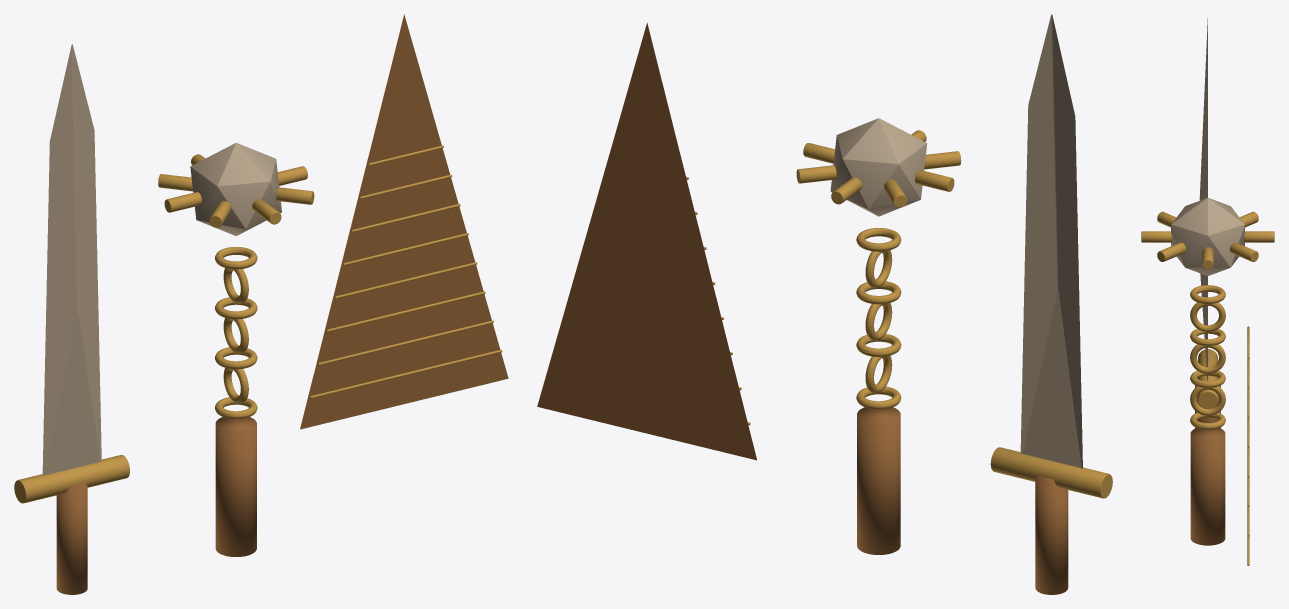
The picture shows the model from 3 angles, left to right: view 1: azimuth 30°, elevation 25°; view 2: azimuth 150°, elevation 25°; view 3: azimuth 270°, elevation 25°; orthographic projection. The views are drawn at different scales.
Visible parts, largest first — view 1: TI042 / triangular decorated frame, TI042 / leaf shaped blade, TI042 / flail grip, TI042 / flail head, TI042 / sword grip, TI042 / decorative crossguard, TI042 / individual flail chain link.006, TI042 / individual metallic string; view 2: TI042 / triangular decorated frame, TI042 / leaf shaped blade, TI042 / flail grip, TI042 / flail head, TI042 / sword grip, TI042 / decorative crossguard, TI042 / individual flail chain link.006; view 3: TI042 / flail grip, TI042 / flail head, TI042 / leaf shaped blade, TI042 / decorative crossguard, TI042 / individual flail chain link.001, TI042 / individual flail chain link.005, TI042 / individual flail chain link.003, TI042 / individual flail chain link.006, TI042 / individual flail chain link, TI042 / individual flail chain link.002, TI042 / individual flail chain link.004, TI042 / ornamental head spike.002 (+4 smaller).
Part boxes in pixels (<box>): TI042 / triangular decorated frame: <box>300,14,508,429</box>; TI042 / leaf shaped blade: <box>42,44,101,475</box>; TI042 / flail grip: <box>215,417,256,556</box>; TI042 / flail head: <box>190,142,281,235</box>; TI042 / sword grip: <box>56,481,87,594</box>; TI042 / decorative crossguard: <box>14,455,129,503</box>; TI042 / individual flail chain link.006: <box>215,247,257,269</box>; TI042 / individual metallic string: <box>309,349,502,398</box>; TI042 / triangular decorated frame: <box>537,22,756,460</box>; TI042 / leaf shaped blade: <box>1020,14,1082,468</box>; TI042 / flail grip: <box>857,407,900,554</box>; TI042 / flail head: <box>830,118,927,216</box>; TI042 / sword grip: <box>1035,475,1068,594</box>; TI042 / decorative crossguard: <box>990,447,1112,498</box>; TI042 / individual flail chain link.006: <box>856,228,901,251</box>; TI042 / flail grip: <box>1190,428,1225,545</box>; TI042 / flail head: <box>1171,198,1244,275</box>; TI042 / leaf shaped blade: <box>1199,18,1207,381</box>; TI042 / decorative crossguard: <box>1198,349,1217,408</box>; TI042 / individual flail chain link.001: <box>1190,386,1225,415</box>; TI042 / individual flail chain link.005: <box>1190,302,1225,331</box>; TI042 / individual flail chain link.003: <box>1190,344,1225,373</box>; TI042 / individual flail chain link.006: <box>1190,285,1225,303</box>; TI042 / individual flail chain link: <box>1190,412,1225,429</box>; TI042 / individual flail chain link.002: <box>1190,370,1225,387</box>; TI042 / individual flail chain link.004: <box>1190,329,1225,345</box>; TI042 / ornamental head spike.002: <box>1244,231,1274,242</box>.
Bounding box in the file's own units: 3.45 × 3.49 × 0.92.
